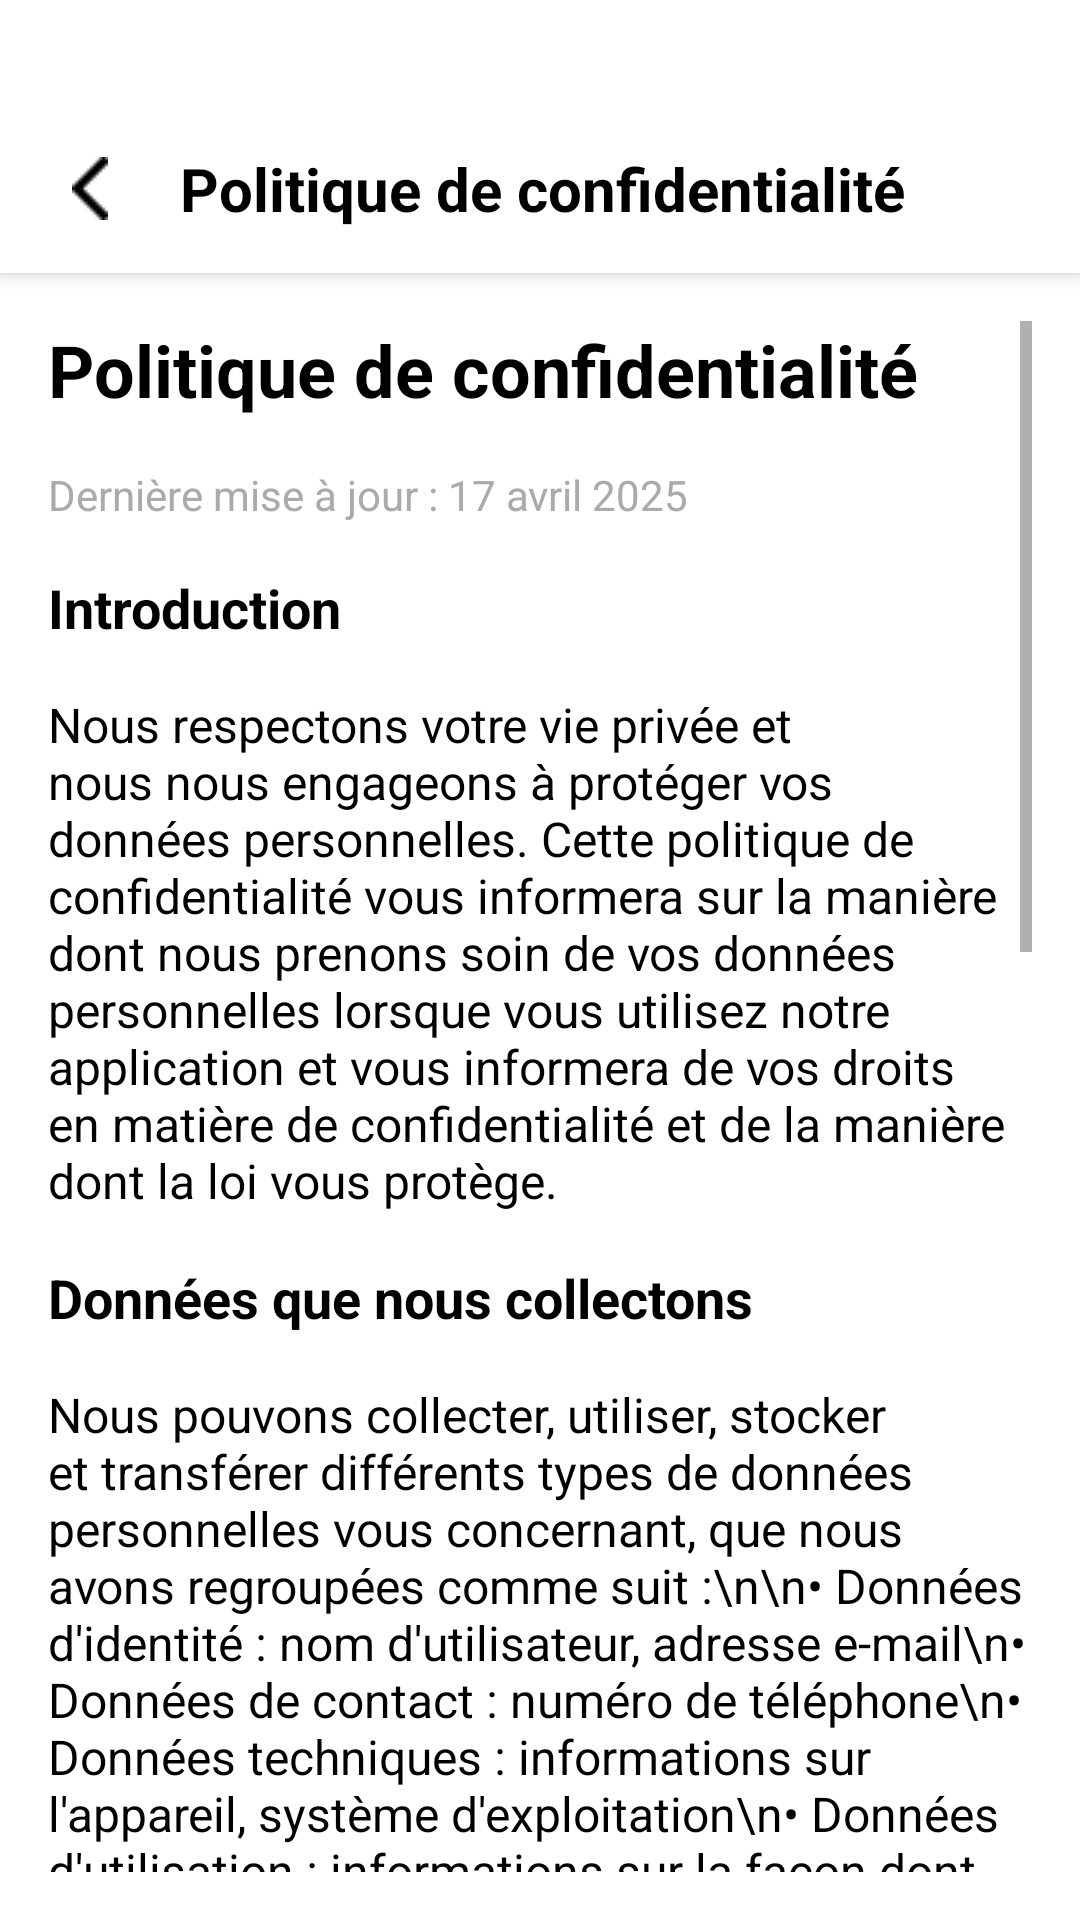

Screen size 1080×1920. Icon name, then its box in pixels as [left=x1, top=y1, right=x2, bottom=y2]:
back: [left=72, top=157, right=108, bottom=220]
